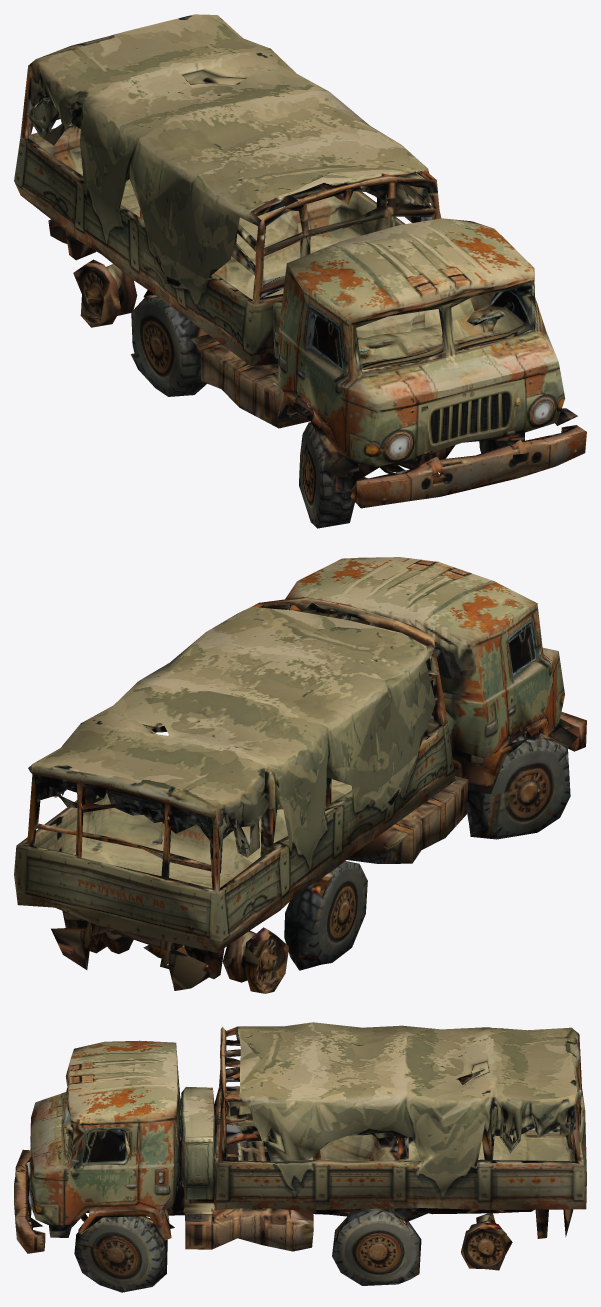
The model's file is EX_Mil_TruckWreck.fbx.
The picture shows the model from 3 angles, top to bottom: view 1: azimuth 30°, elevation 25°; view 2: azimuth 150°, elevation 25°; view 3: azimuth 270°, elevation 25°; orthographic projection. The views are drawn at different scales.
Parts seen in each view (by area): view 1: texture_mapping; view 2: texture_mapping; view 3: texture_mapping.
Part boxes in pixels (x1,y1,x2,y2): texture_mapping: (14, 14, 586, 528); texture_mapping: (14, 557, 586, 993); texture_mapping: (14, 1022, 586, 1292).
Size of the model in its own units: 0.3932 by 0.9992 by 0.3905.
1 material, 1 textured.
